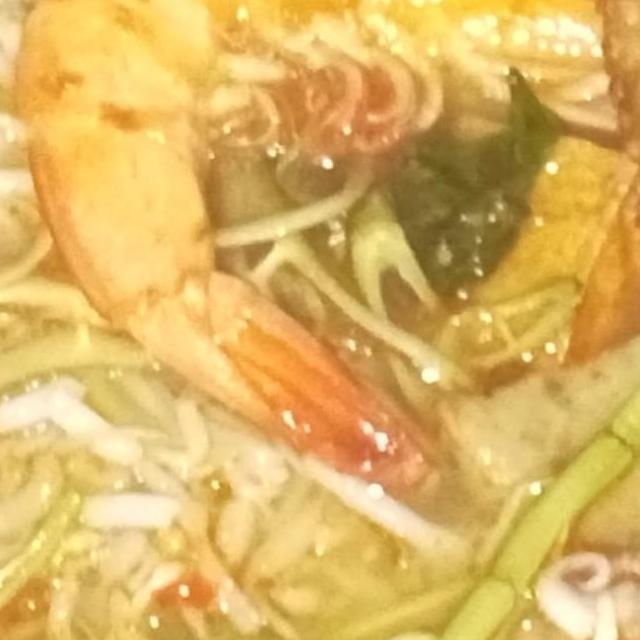bun: (0, 0, 197, 640)
dau hu: (403, 110, 640, 399)
tom: (6, 0, 640, 499)
